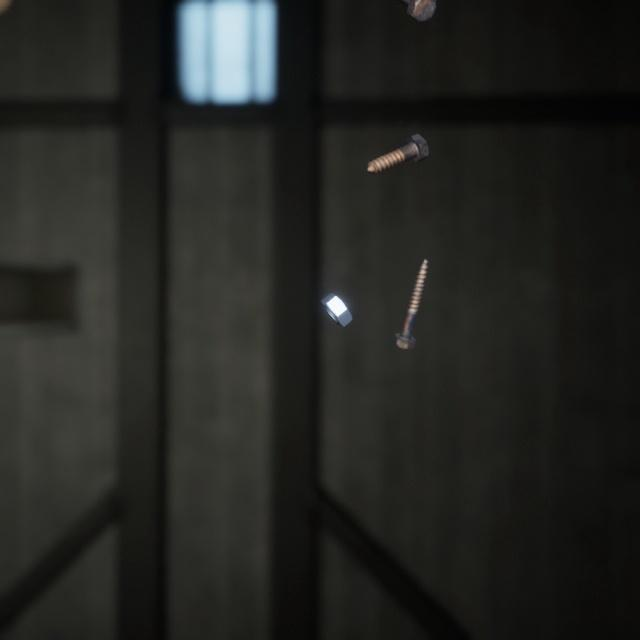bolt: (388, 237, 432, 337), (362, 116, 433, 166), (401, 0, 441, 22)
nut: (318, 270, 358, 313)
